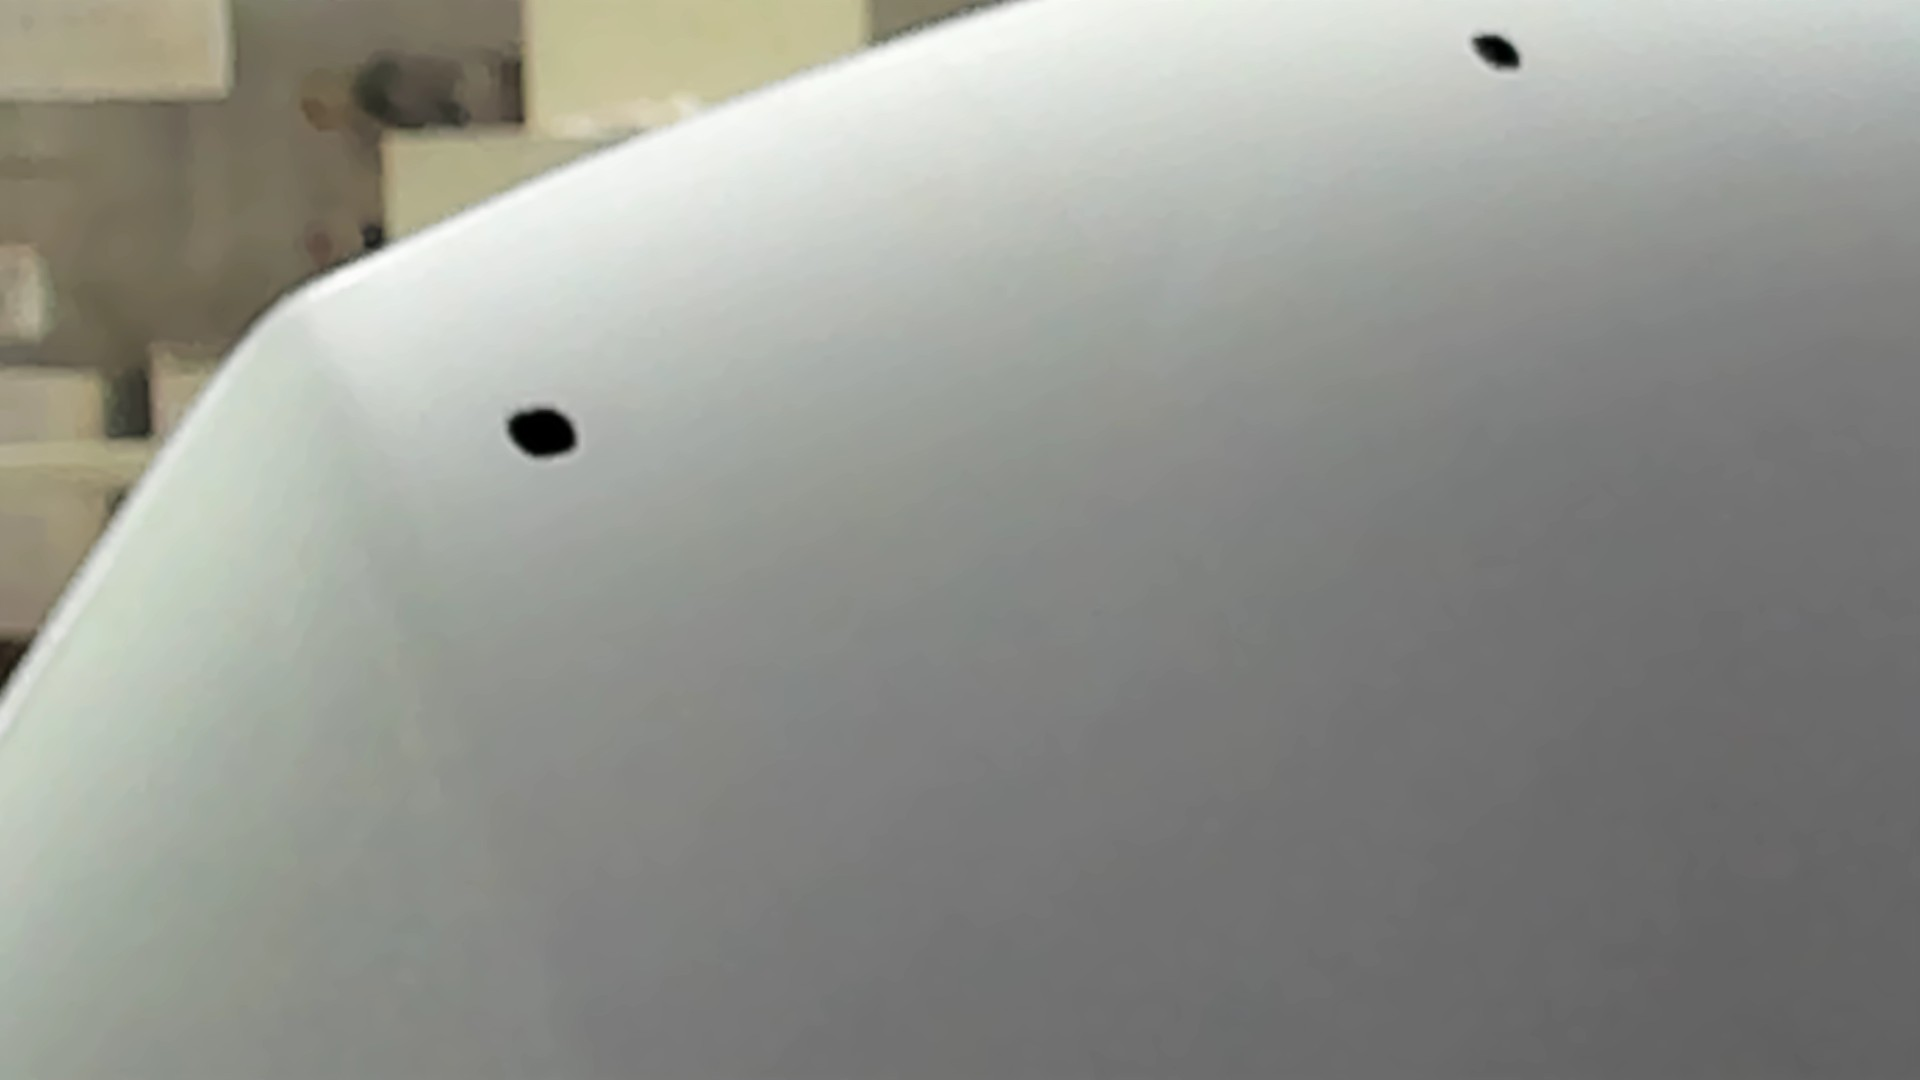amorfo: (504, 401, 579, 462), (1464, 24, 1524, 79)
